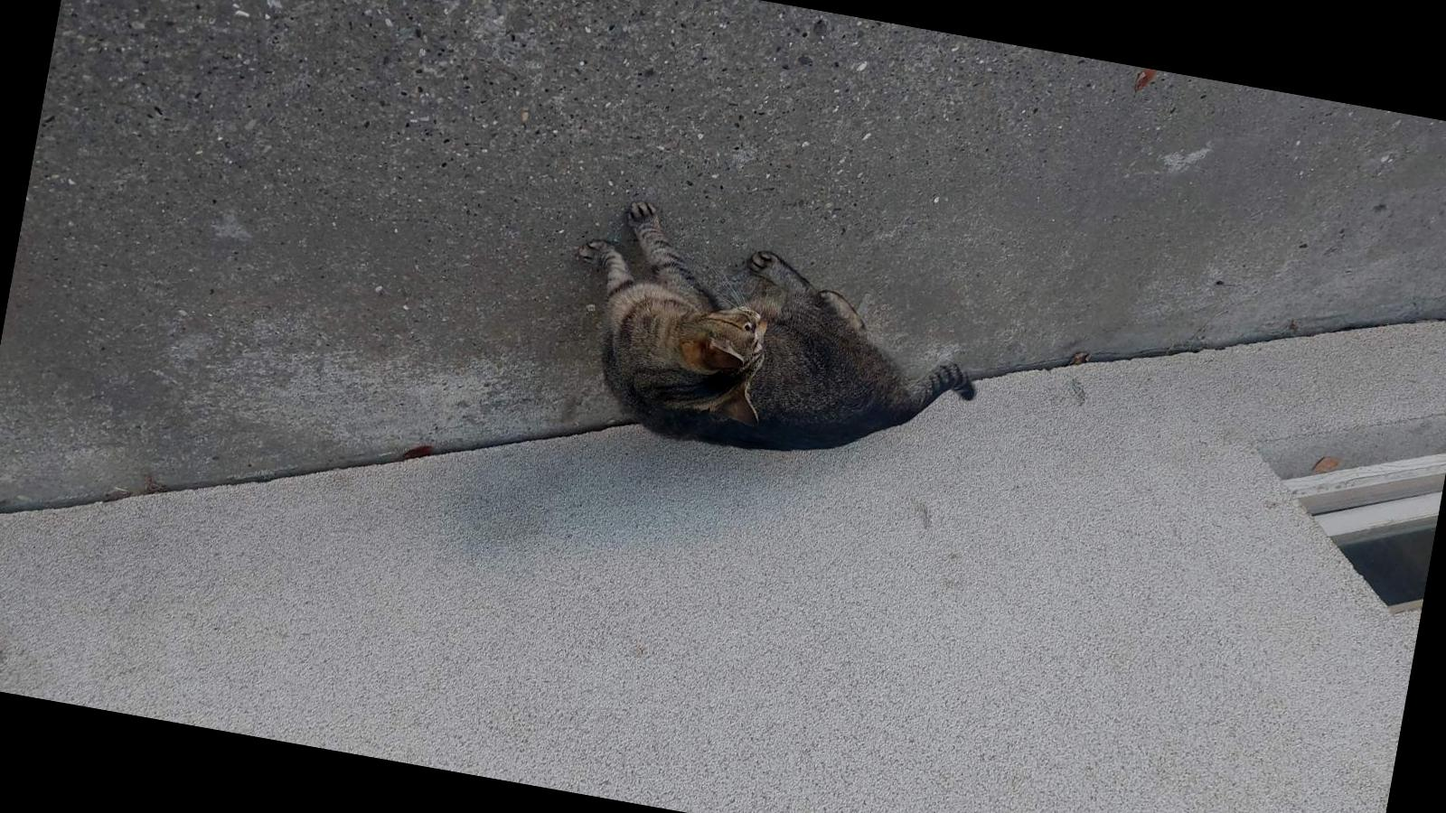macka: (546, 190, 999, 491)
